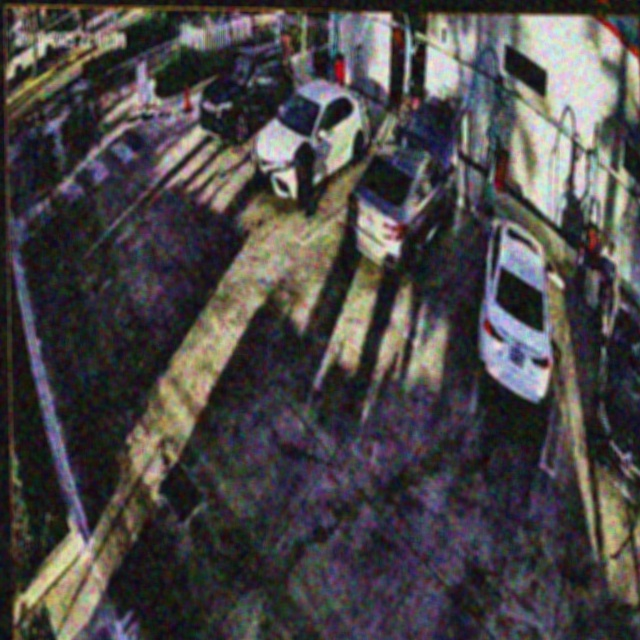Car: (345, 102, 462, 275), (474, 216, 552, 408), (251, 75, 373, 197)
